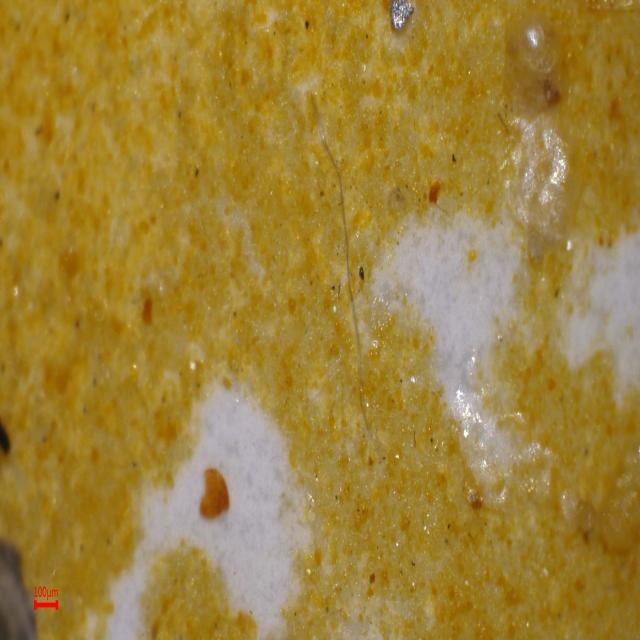fibers: (310, 89, 385, 461)
